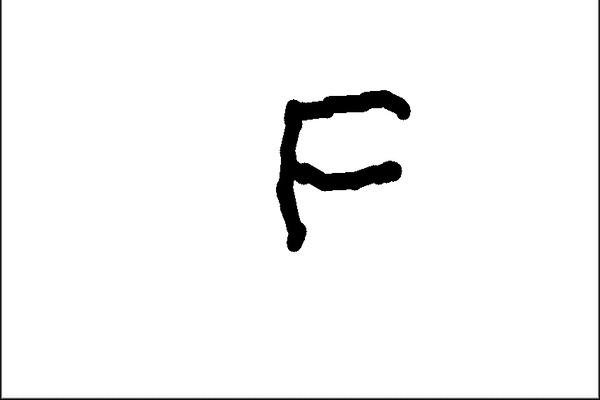F: (269, 86, 413, 259)
